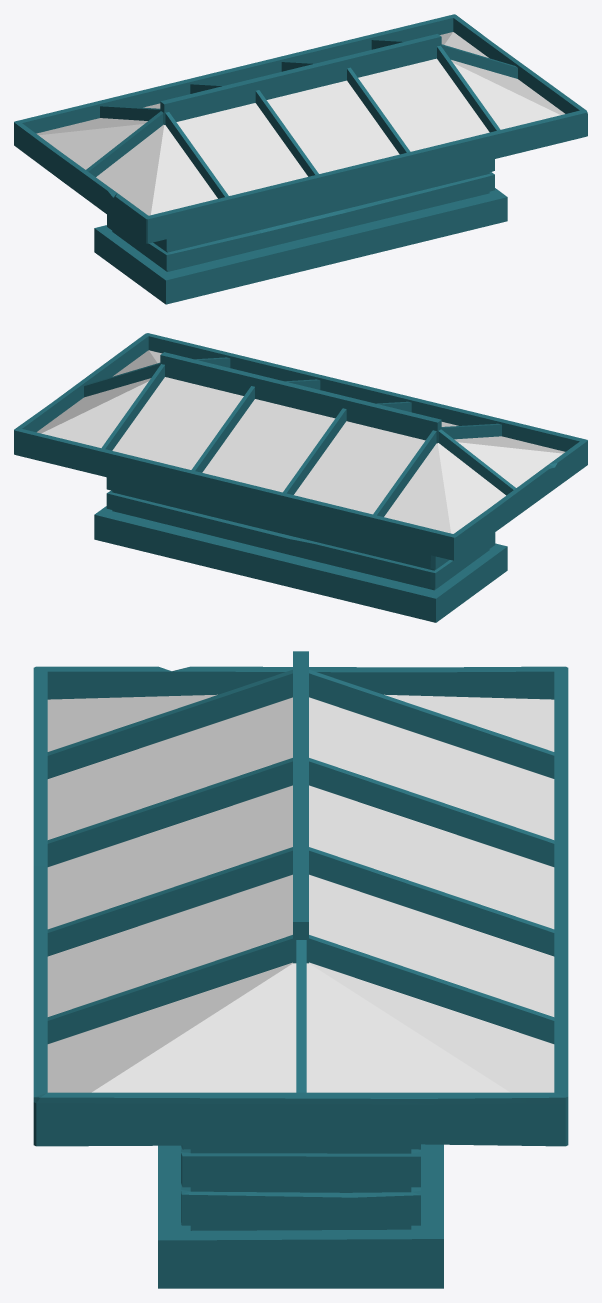
File: stand.fbx
3 renders of one model, top to bottom at view 1: azimuth 30°, elevation 25°; view 2: azimuth 150°, elevation 25°; view 3: azimuth 270°, elevation 25°, orthographic. The views are drawn at different scales.
Parts seen in each view (by area): view 1: fruit_stand; view 2: fruit_stand; view 3: fruit_stand.
Boxes of the visible parts, <box> form: fruit_stand: <box>14,14,587,304</box>; fruit_stand: <box>14,333,587,622</box>; fruit_stand: <box>33,651,568,1288</box>.
Bounding box in the file's own units: 441 × 231 × 160.
